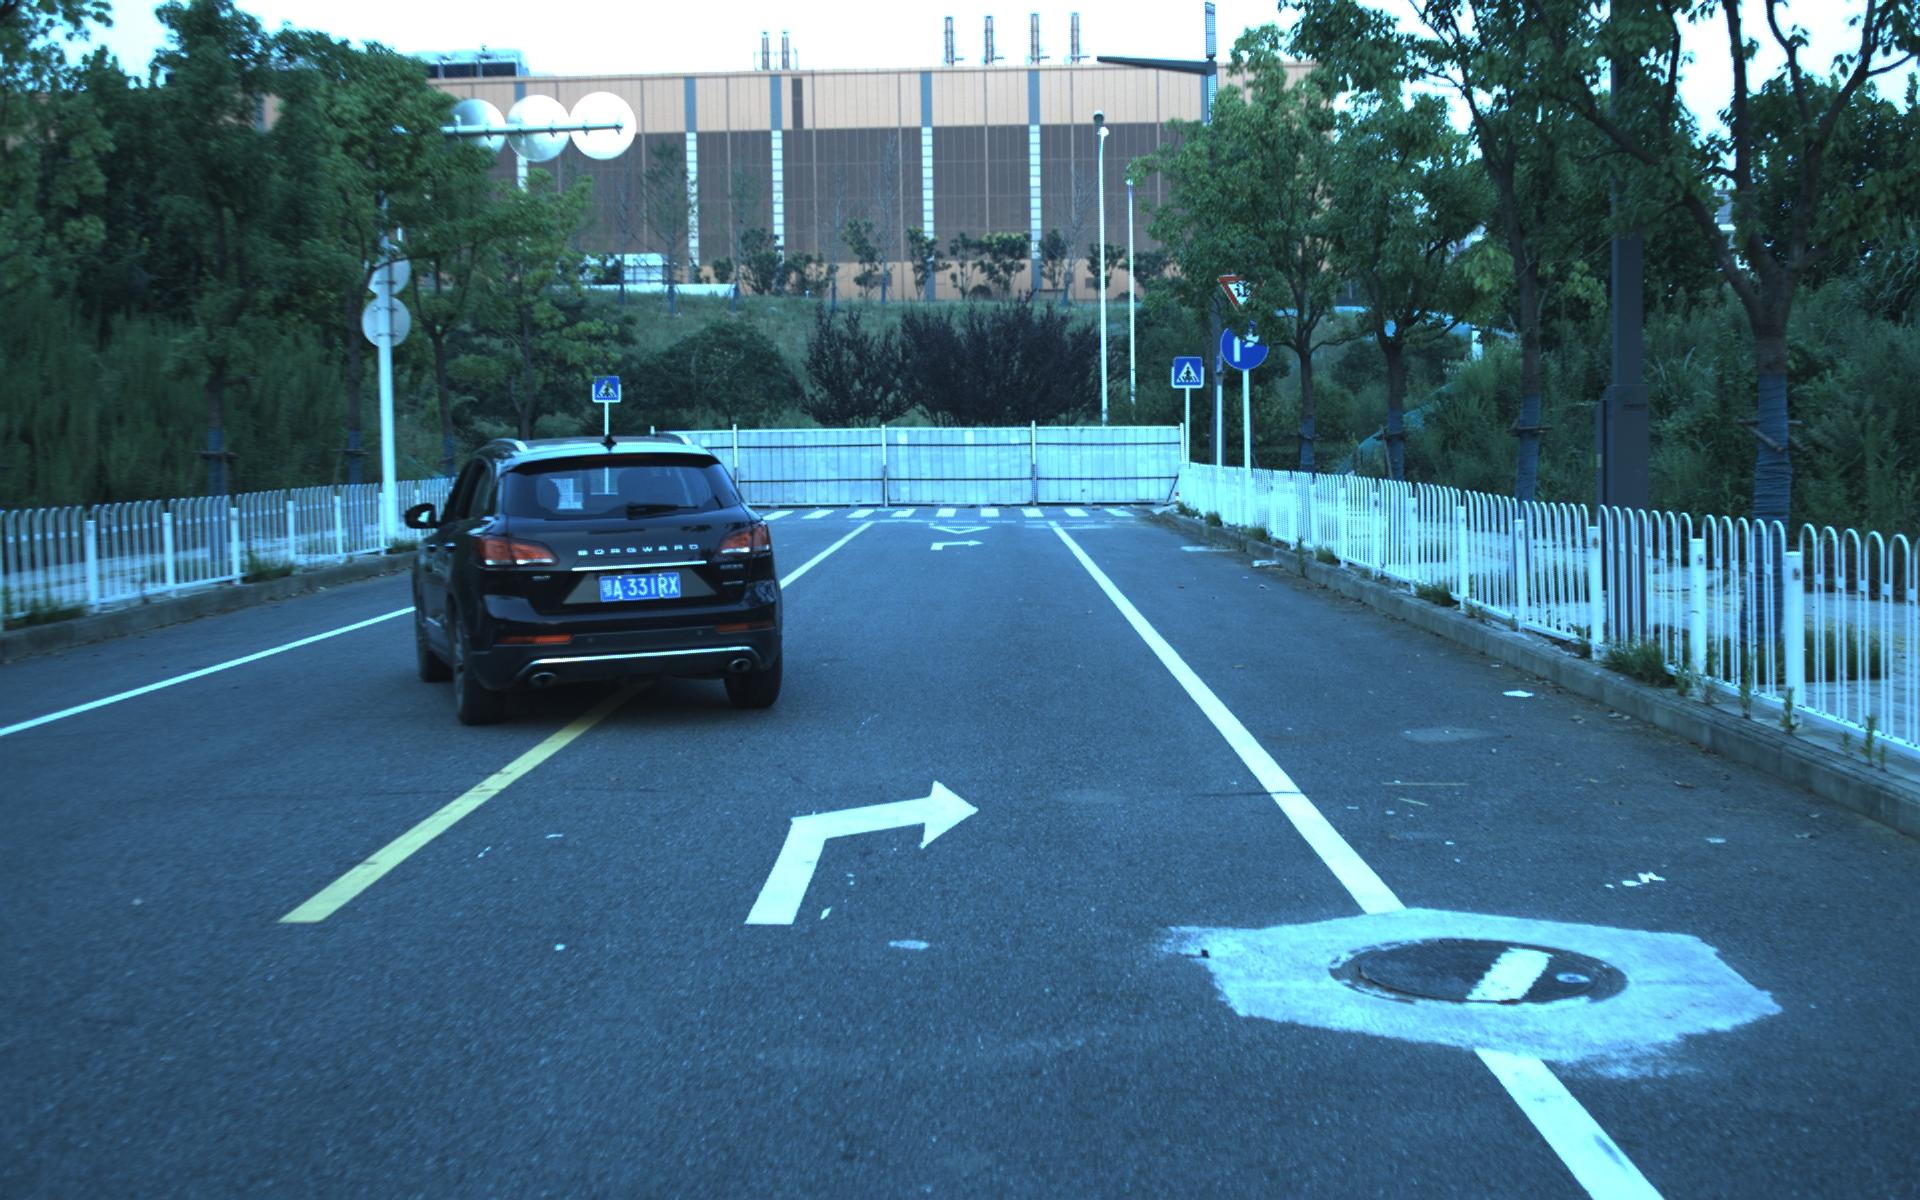Car: (402, 426, 792, 731)
